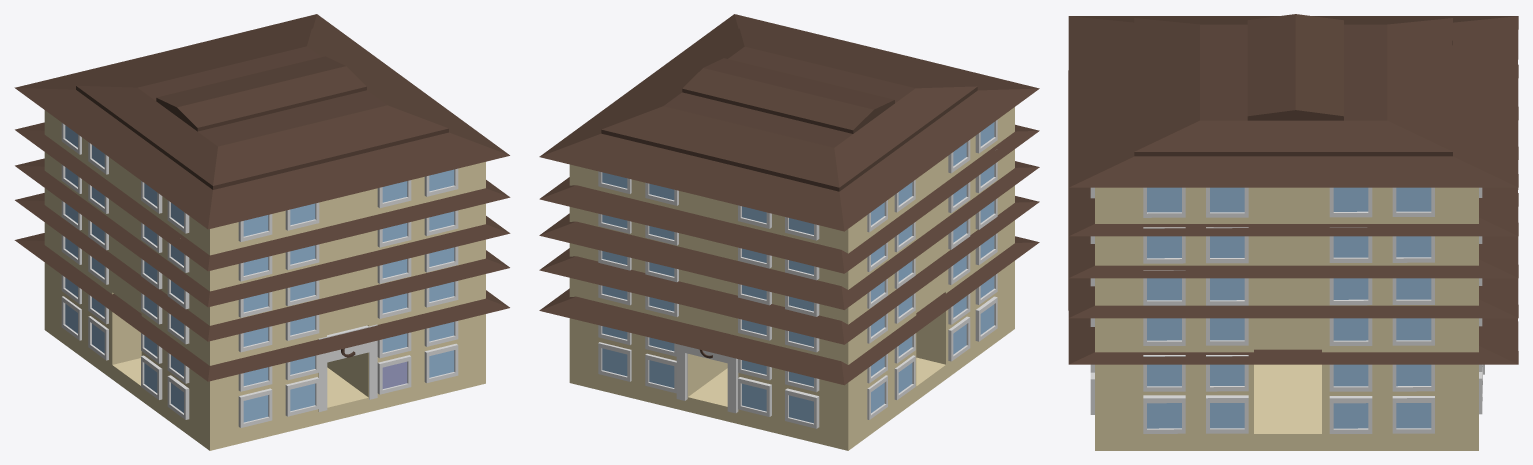
The model's file is Gedung_C.fbx.
3 views of the same model, side by side, from view 1: azimuth 30°, elevation 25°; view 2: azimuth 150°, elevation 25°; view 3: azimuth 270°, elevation 25° (orthographic). The views are drawn at different scales.
Parts seen in each view (by area): view 1: Cube.001, Cube, Cube.126, Cube.123, Cube.124, Cube.125, Cube.127, Cube.003, Cube.002, Cube.024, Cube.025, Cube.099 (+23 smaller); view 2: Cube.001, Cube, Cube.126, Cube.123, Cube.124, Cube.125, Cube.128, Cube.096, Cube.097, Cube.074, Cube.075, Cube.099 (+11 smaller); view 3: Cube.001, Cube, Cube.123, Cube.124, Cube.126, Cube.125, Cube.073, Cube.072, Cube.050, Cube.051, Cube.057, Cube.067 (+18 smaller).
Boxes of the visible parts, left/top/right/bottom form: Cube.001: left=14, top=14, right=509, bottom=229; Cube: left=44, top=110, right=485, bottom=450; Cube.126: left=14, top=233, right=509, bottom=381; Cube.123: left=15, top=122, right=510, bottom=271; Cube.124: left=15, top=158, right=510, bottom=307; Cube.125: left=15, top=193, right=509, bottom=341; Cube.127: left=318, top=324, right=377, bottom=411; Cube.003: left=424, top=343, right=458, bottom=383; Cube.002: left=377, top=355, right=411, bottom=394; Cube.024: left=285, top=377, right=319, bottom=416; Cube.025: left=238, top=388, right=272, bottom=427; Cube.099: left=167, top=375, right=189, bottom=419; Cube.001: left=539, top=14, right=1039, bottom=231; Cube: left=569, top=107, right=1014, bottom=450; Cube.126: left=539, top=236, right=1039, bottom=385; Cube.123: left=539, top=124, right=1039, bottom=273; Cube.124: left=539, top=161, right=1039, bottom=309; Cube.125: left=539, top=196, right=1039, bottom=344; Cube.128: left=676, top=344, right=738, bottom=413; Cube.096: left=785, top=388, right=819, bottom=428; Cube.097: left=738, top=377, right=771, bottom=416; Cube.074: left=598, top=342, right=631, bottom=381; Cube.075: left=645, top=353, right=676, bottom=393; Cube.099: left=975, top=296, right=997, bottom=341; Cube.001: left=1068, top=14, right=1518, bottom=187; Cube: left=1095, top=187, right=1478, bottom=450; Cube.123: left=1068, top=64, right=1518, bottom=236; Cube.124: left=1068, top=107, right=1518, bottom=278; Cube.126: left=1068, top=193, right=1518, bottom=364; Cube.125: left=1068, top=147, right=1518, bottom=318; Cube.073: left=1143, top=395, right=1185, bottom=433; Cube.072: left=1206, top=395, right=1248, bottom=433; Cube.050: left=1329, top=396, right=1372, bottom=433; Cube.051: left=1392, top=396, right=1434, bottom=433; Cube.057: left=1329, top=187, right=1372, bottom=217; Cube.067: left=1206, top=187, right=1248, bottom=217.
Bounding box in the file's own units: 4358 × 3679 × 4832.
